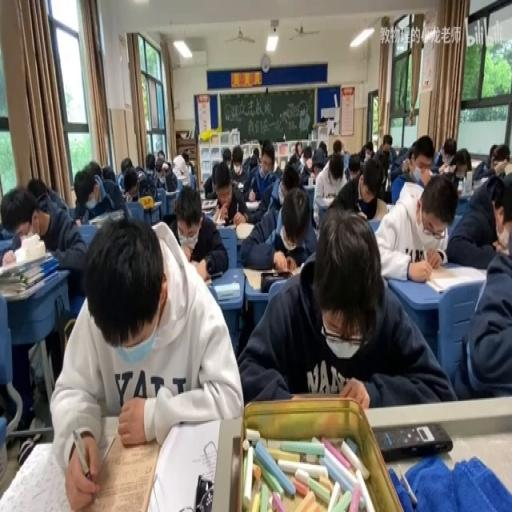calculator: (424, 263, 485, 295), (368, 196, 388, 220), (214, 282, 240, 300), (234, 219, 256, 240), (452, 186, 470, 209), (0, 237, 14, 258), (89, 213, 109, 226), (211, 204, 224, 224), (471, 175, 487, 188), (176, 171, 189, 186), (320, 195, 334, 206), (245, 199, 260, 209), (200, 199, 216, 208), (428, 166, 440, 176), (385, 202, 394, 213), (150, 199, 162, 206), (198, 189, 205, 199), (236, 181, 243, 189)
paper: (53, 210, 241, 512), (238, 206, 453, 407), (0, 180, 84, 422), (452, 176, 512, 398), (170, 184, 227, 280), (312, 151, 352, 230), (76, 163, 126, 222), (390, 142, 434, 205), (242, 141, 276, 209), (470, 144, 508, 180), (431, 135, 458, 171), (203, 157, 226, 199), (152, 155, 178, 192), (297, 145, 318, 184), (278, 166, 298, 202), (122, 166, 140, 202), (376, 132, 395, 166), (27, 176, 49, 205), (228, 144, 246, 179), (347, 150, 362, 180), (454, 151, 472, 175), (180, 150, 193, 174), (330, 160, 342, 184), (360, 140, 374, 160), (101, 164, 116, 180), (116, 168, 126, 189), (119, 155, 131, 172), (332, 138, 344, 155), (287, 151, 299, 168), (145, 152, 155, 172), (248, 148, 258, 166), (318, 141, 328, 158), (222, 148, 231, 165), (294, 141, 302, 158), (136, 169, 145, 181), (173, 162, 180, 176), (157, 149, 164, 161), (394, 148, 400, 156)
person: (374, 422, 451, 461), (261, 270, 294, 292), (194, 474, 214, 509), (208, 269, 222, 279)
